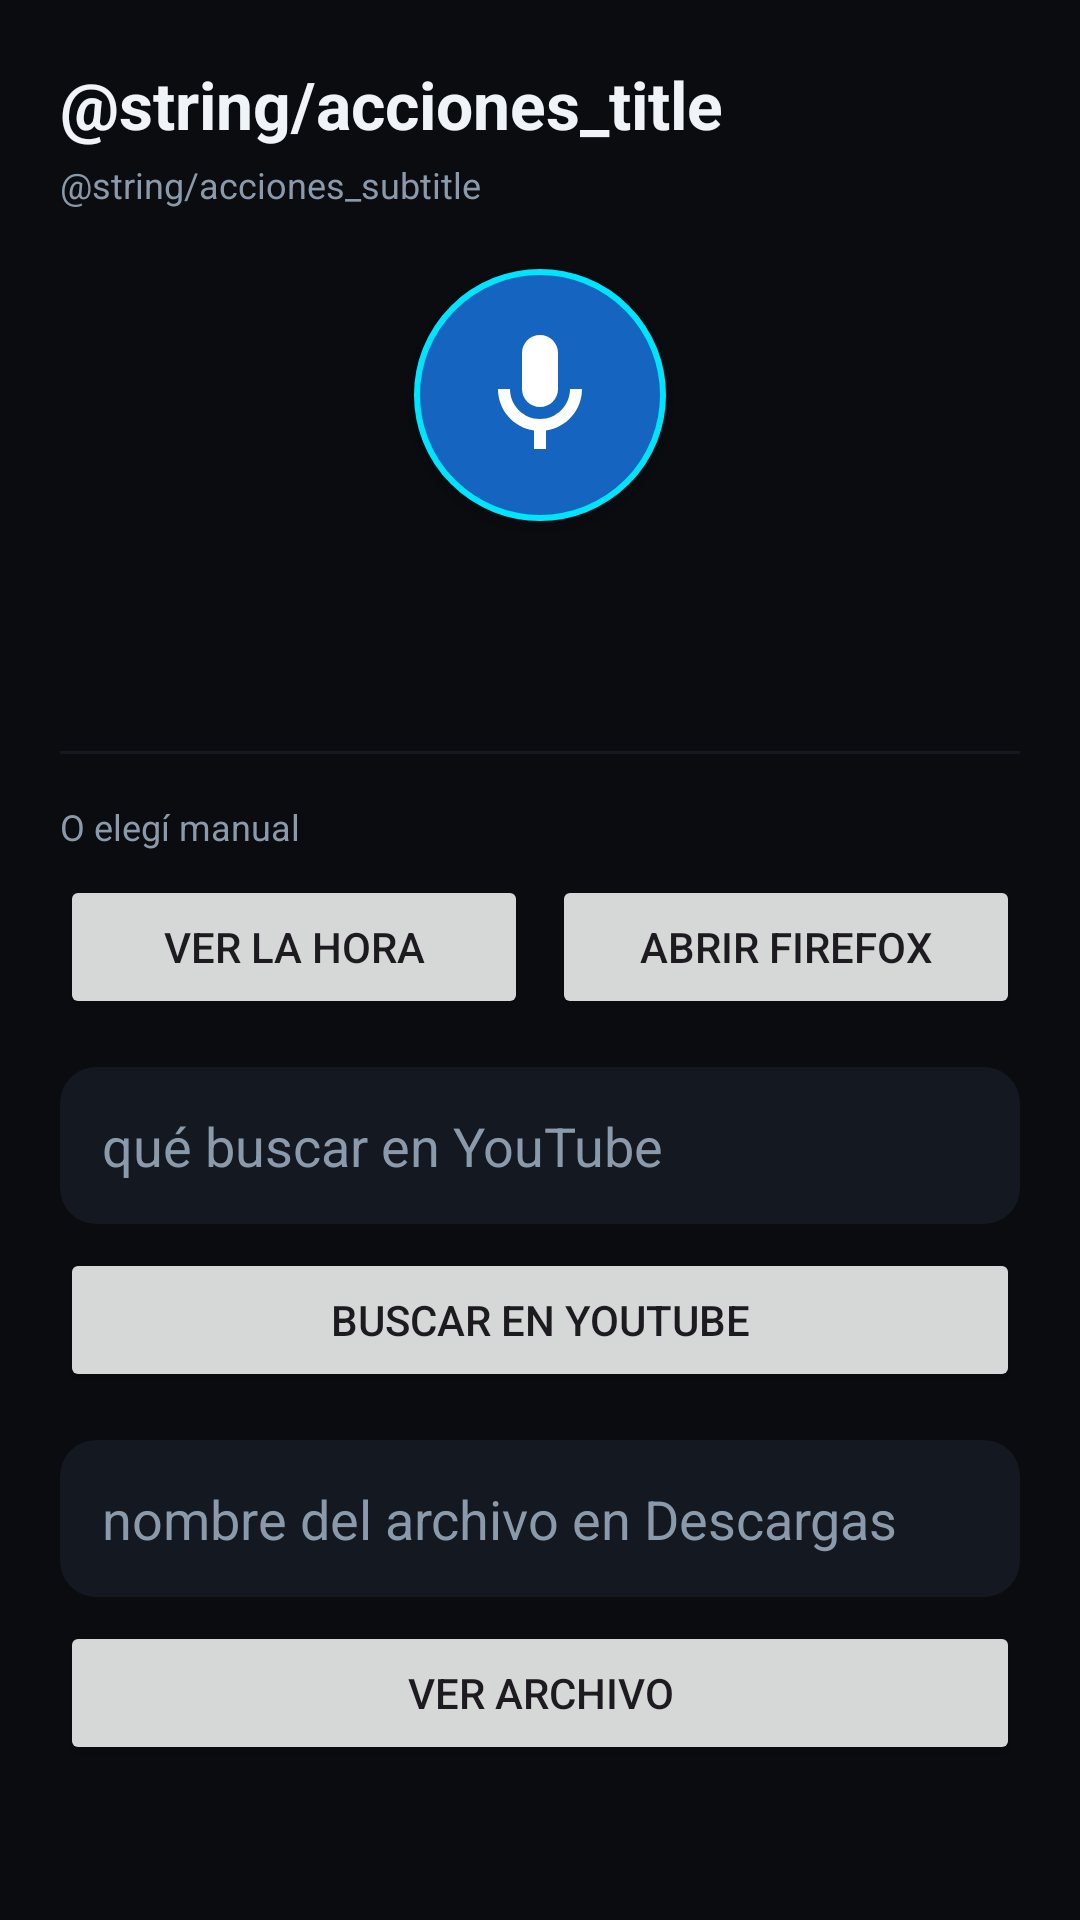

Screen size 1080w x 1920h. Icon name, then its box in pixels as BBox(x1, y1, x2, y2):
Hablar: BBox(414, 269, 666, 521)
